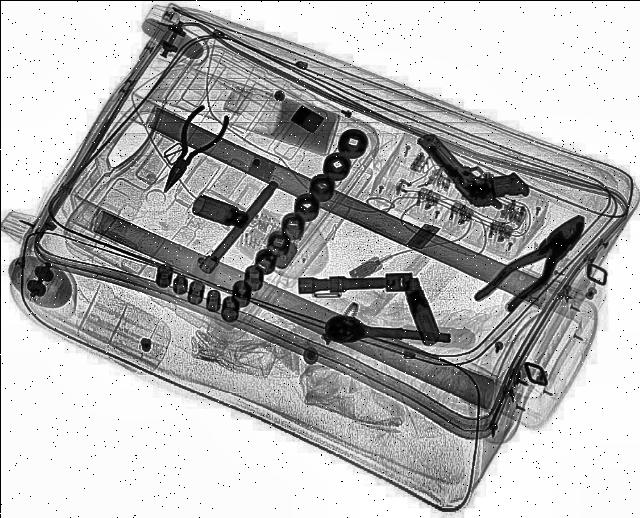Gun: (414, 115, 534, 218)
Pliers: (472, 204, 602, 319), (146, 102, 238, 198)
